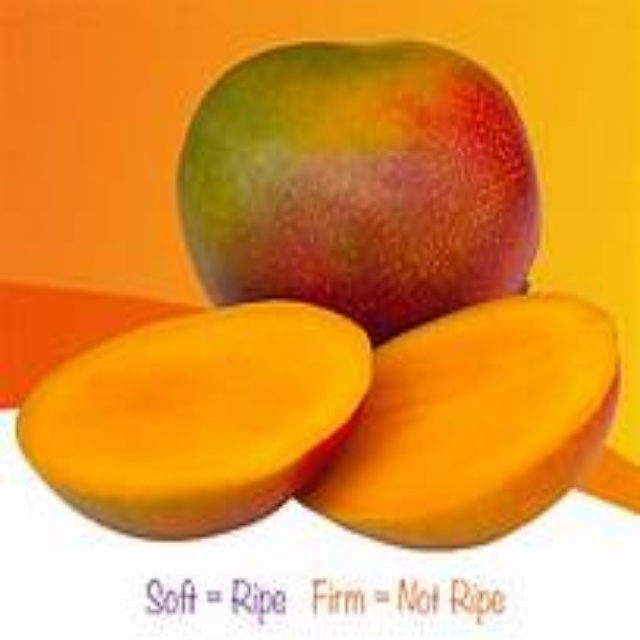mango: (18, 285, 614, 551), (180, 37, 541, 331)
